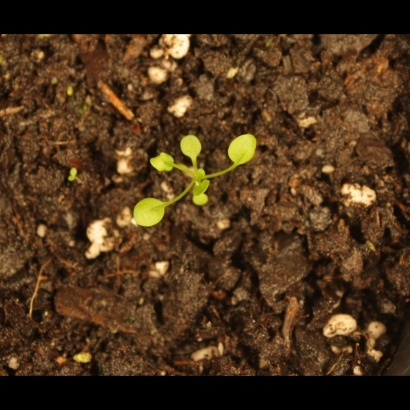leaf: (221, 132, 264, 167), (132, 197, 170, 230), (146, 149, 176, 175), (180, 134, 205, 158), (190, 191, 214, 215), (191, 177, 214, 200), (192, 162, 215, 185)
